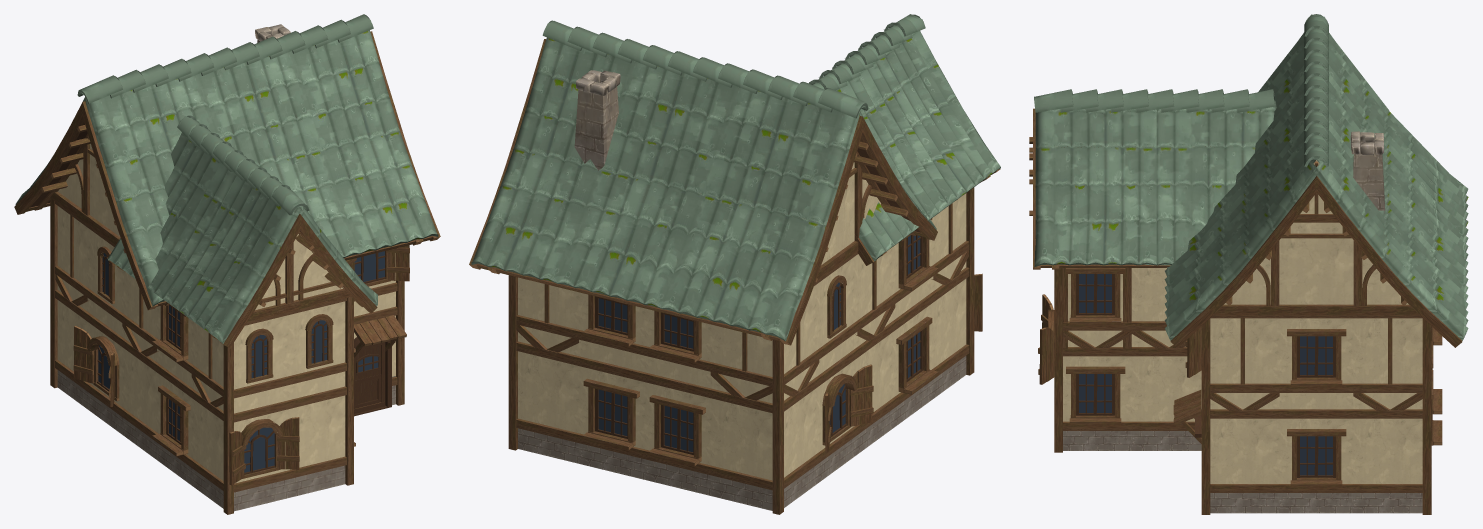
File: l_house.glb
3 views of the same model, side by side, from view 1: azimuth 30°, elevation 25°; view 2: azimuth 150°, elevation 25°; view 3: azimuth 270°, elevation 25° (orthographic). The views are drawn at different scales.
Parts seen in each view (by area): view 1: Roof_RoundTiles_6x8.071, Roof_RoundTiles_4x6.074, Wall_Plaster_Straight_Base.004, Roof_Front_Brick4.075, Wall_Plaster_Window_Thin_Round+upper.038, Roof_Front_Brick6.072, Wall_Plaster_Window_Thin_Round+upper.036, Wall_Plaster_Straight_Base.013, Wall_Plaster_Straight+upper.045, Wall_Plaster_Straight_Base.016, Wall_Plaster_Window_Wide_Round.001, Wall_Plaster_Straight_Base.009 (+29 smaller); view 2: Roof_RoundTiles_6x8.071, Roof_RoundTiles_4x6.074, Wall_Plaster_Straight_Base.024, Wall_Plaster_Straight_Base.029, Wall_Plaster_Window_Wide_Flat.025, Wall_Plaster_Window_Wide_Flat.027, Wall_Plaster_Straight+upper.059, Wall_Plaster_Straight+upper.064, Wall_Plaster_Straight_Base.016, Roof_Front_Brick6.072, Wall_Plaster_Straight_Base.009, Prop_Chimney.076 (+25 smaller); view 3: Roof_RoundTiles_6x8.071, Roof_RoundTiles_4x6.074, Roof_Front_Brick6.073, Wall_Plaster_Straight_Base.020, Wall_Plaster_Straight_Base.023, Wall_Plaster_Straight+upper.055, Wall_Plaster_Straight+upper.058, Wall_Plaster_Straight_Base.019, Wall_Plaster_Window_Wide_Flat.021, Wall_Plaster_Window_Wide_Flat.017, Wall_Plaster_Window_Wide_Flat+upper.056, Window_Wide_Flat1.018 (+15 smaller).
Boxes of the visible parts, box(x1,y1,x2,y2) form: Roof_RoundTiles_6x8.071: box(14, 14, 440, 310); Roof_RoundTiles_4x6.074: box(107, 115, 377, 347); Wall_Plaster_Straight_Base.004: box(288, 386, 346, 497); Roof_Front_Brick4.075: box(247, 234, 351, 322); Wall_Plaster_Window_Thin_Round+upper.038: box(288, 298, 346, 399); Roof_Front_Brick6.072: box(41, 125, 125, 253); Wall_Plaster_Window_Thin_Round+upper.036: box(234, 312, 290, 413); Wall_Plaster_Straight_Base.013: box(122, 339, 159, 461); Wall_Plaster_Straight+upper.045: box(55, 201, 90, 313); Wall_Plaster_Straight_Base.016: box(191, 389, 223, 508); Wall_Plaster_Window_Wide_Round.001: box(234, 400, 290, 511); Wall_Plaster_Straight_Base.009: box(55, 290, 90, 410); Roof_RoundTiles_6x8.071: box(469, 20, 937, 345); Roof_RoundTiles_4x6.074: box(808, 14, 1000, 265); Wall_Plaster_Straight_Base.024: box(516, 341, 580, 463); Wall_Plaster_Straight_Base.029: box(710, 389, 772, 510); Wall_Plaster_Window_Wide_Flat.025: box(578, 356, 646, 479); Wall_Plaster_Window_Wide_Flat.027: box(644, 373, 712, 496); Wall_Plaster_Straight+upper.059: box(516, 277, 580, 356); Wall_Plaster_Straight+upper.064: box(710, 325, 772, 403); Wall_Plaster_Straight_Base.016: box(930, 267, 969, 400); Roof_Front_Brick6.072: box(815, 141, 908, 282); Wall_Plaster_Straight_Base.009: box(784, 377, 819, 507); Prop_Chimney.076: box(574, 70, 620, 170); Roof_RoundTiles_6x8.071: box(1164, 14, 1468, 347); Roof_RoundTiles_4x6.074: box(1033, 89, 1276, 269); Roof_Front_Brick6.073: box(1214, 160, 1419, 315); Wall_Plaster_Straight_Base.020: box(1210, 409, 1279, 513); Wall_Plaster_Straight_Base.023: box(1353, 409, 1422, 513); Wall_Plaster_Straight+upper.055: box(1210, 315, 1279, 410); Wall_Plaster_Straight+upper.058: box(1353, 315, 1422, 410); Wall_Plaster_Straight_Base.019: box(1132, 347, 1201, 450); Wall_Plaster_Window_Wide_Flat.021: box(1279, 409, 1353, 513); Wall_Plaster_Window_Wide_Flat.017: box(1063, 347, 1132, 450); Wall_Plaster_Window_Wide_Flat+upper.056: box(1279, 315, 1353, 409); Window_Wide_Flat1.018: box(1066, 366, 1125, 425).
Bounding box in the file's own units: 9.68 × 11.02 × 11.92.
Materials: 6 (5 with a texture image).
